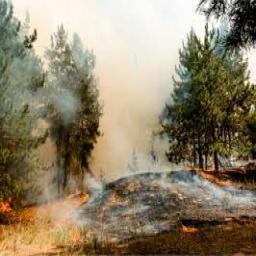Low smoke: (6, 0, 245, 210)
